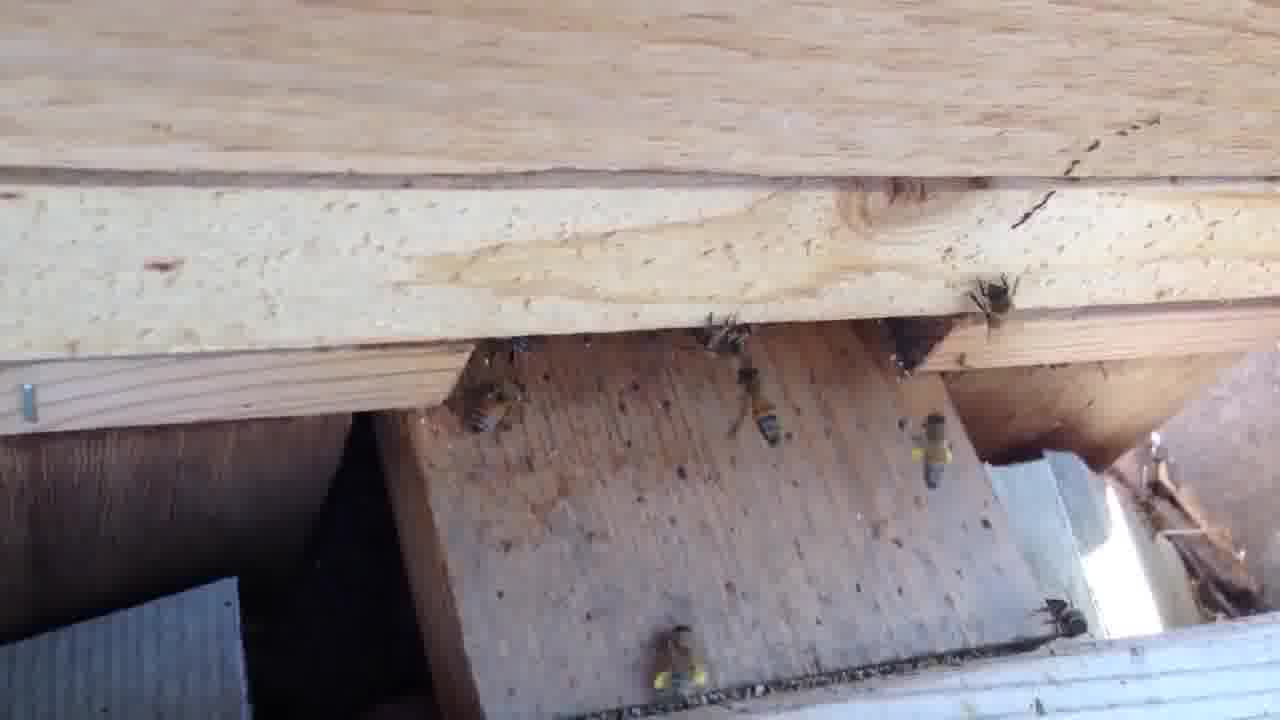pollen: (648, 619, 715, 700), (907, 404, 961, 485)
